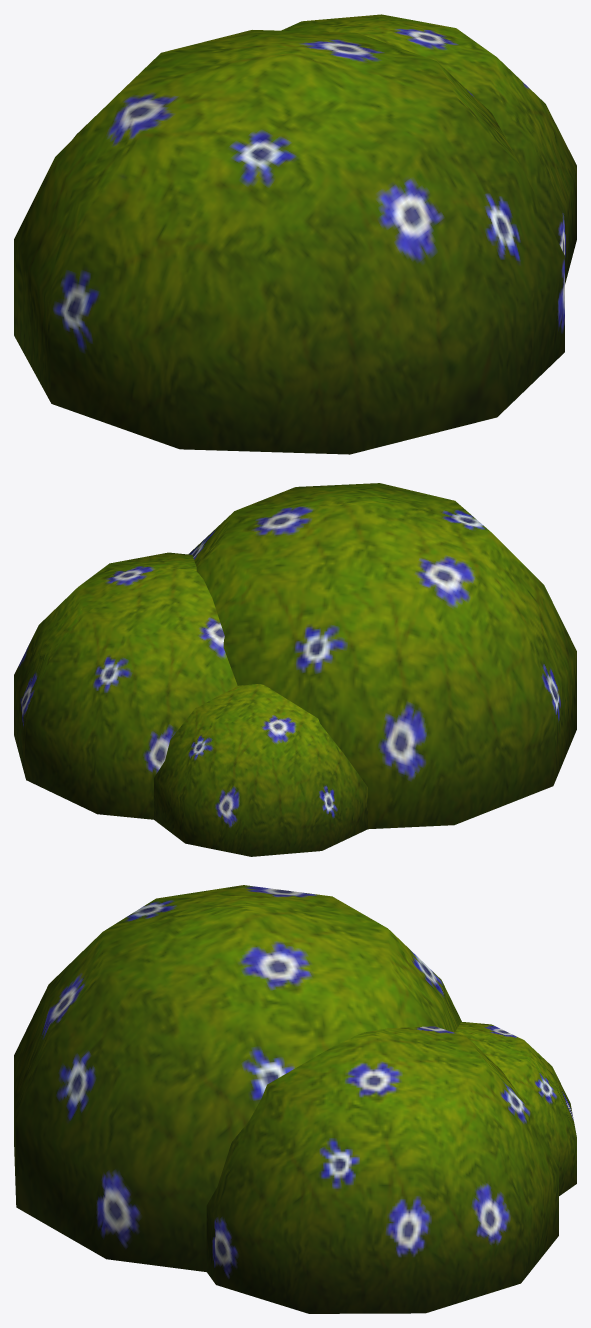
Rendered from Bush_1c_atlas.fbx.
The picture shows the model from 3 angles, top to bottom: view 1: azimuth 30°, elevation 25°; view 2: azimuth 150°, elevation 25°; view 3: azimuth 270°, elevation 25°; orthographic projection. The views are drawn at different scales.
Parts seen in each view (by area): view 1: polySurface156; view 2: polySurface156; view 3: polySurface156.
Part boxes in pixels (x1,y1,x2,y2): polySurface156: (14, 14, 576, 454); polySurface156: (14, 483, 576, 856); polySurface156: (14, 885, 576, 1313).
Size of the model in its own units: 3.03 by 1.48 by 2.91.
